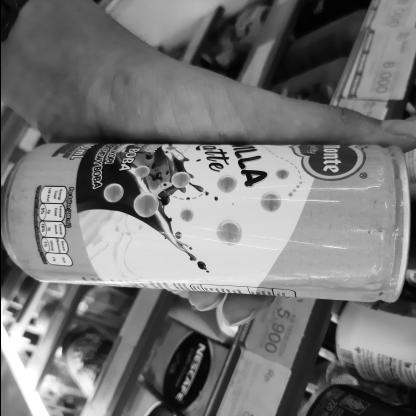alumunium_can: (8, 137, 416, 289)
